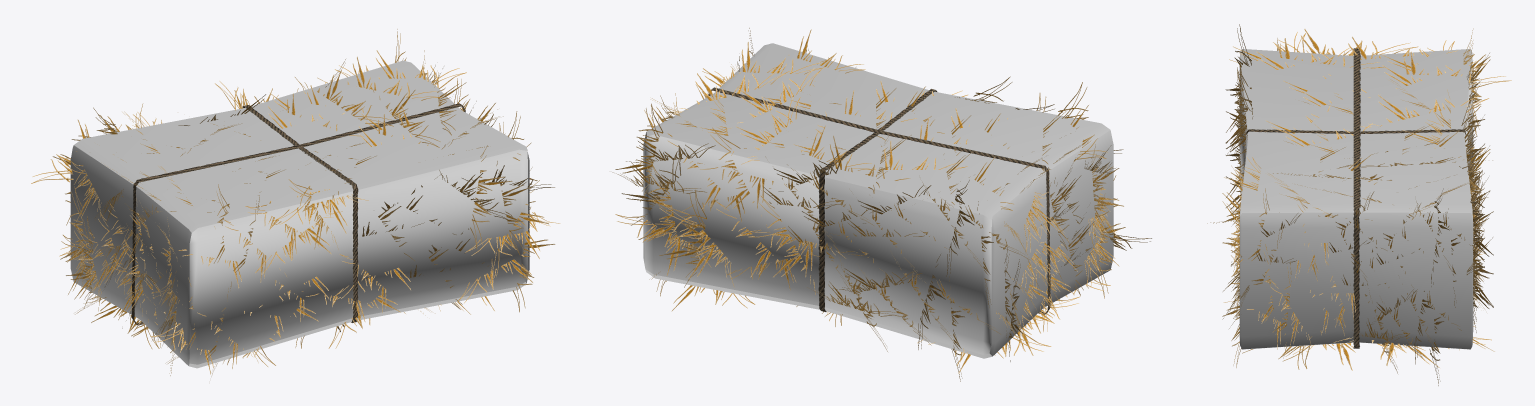
The model's file is Haystack_Final.FBX.
3 views of the same model, side by side, from view 1: azimuth 30°, elevation 25°; view 2: azimuth 150°, elevation 25°; view 3: azimuth 270°, elevation 25° (orthographic). The views are drawn at different scales.
Parts seen in each view (by area): view 1: Box001, Plane011, Rope; view 2: Box001, Plane011, Rope; view 3: Box001, Plane011, Rope.
Part boxes in pixels (x1,y1,x2,y2): Box001: (70, 60, 529, 368); Plane011: (31, 29, 560, 376); Rope: (131, 103, 465, 325); Box001: (643, 43, 1113, 358); Plane011: (612, 28, 1151, 381); Rope: (708, 87, 1050, 314); Box001: (1239, 49, 1473, 349); Plane011: (1207, 24, 1511, 385); Rope: (1246, 48, 1466, 348).
Bounding box in the file's own units: 233 × 117 × 156.
